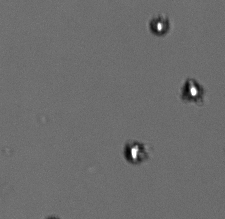Living Cell: (122, 139, 149, 165), (148, 12, 173, 38), (180, 78, 206, 102)
